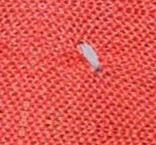hole: (76, 38, 102, 72)
